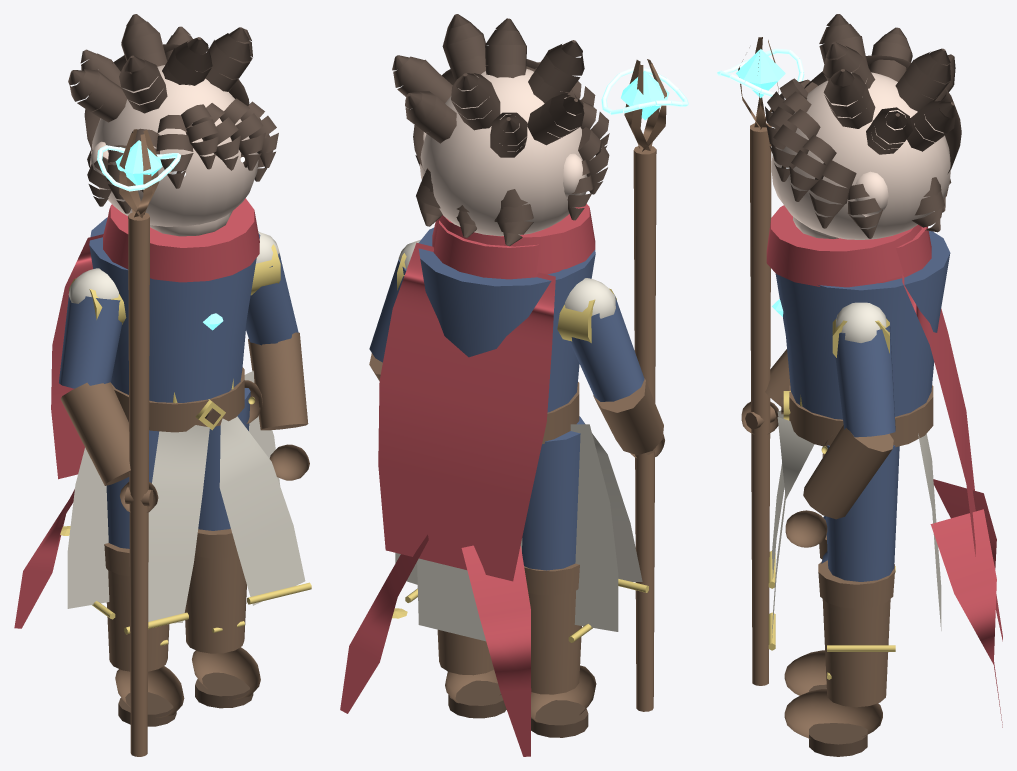
The model's file is arcane_apprentice.glb.
The picture shows the model from 3 angles, left to right: view 1: azimuth 30°, elevation 25°; view 2: azimuth 150°, elevation 25°; view 3: azimuth 270°, elevation 25°; orthographic projection. The views are drawn at different scales.
Parts seen in each view (by area): view 1: Part_10, Part_8, Part_7, Part_4, Part_5, Part_12, Part_0, Part_6, Part_11, Part_9, Part_13; view 2: Part_5, Part_7, Part_4, Part_8, Part_10, Part_0, Part_12, Part_11, Part_6, Part_9, Part_13; view 3: Part_7, Part_10, Part_4, Part_5, Part_0, Part_12, Part_8, Part_11, Part_6, Part_9, Part_13.
Boxes of the visible parts, <box> form: Part_10: <box>60,332,309,717</box>; Part_8: <box>67,231,305,623</box>; Part_7: <box>59,217,298,548</box>; Part_4: <box>68,14,278,213</box>; Part_5: <box>14,198,259,628</box>; Part_12: <box>119,129,158,756</box>; Part_0: <box>90,65,258,236</box>; Part_6: <box>60,244,311,645</box>; Part_11: <box>118,408,253,726</box>; Part_9: <box>115,140,223,330</box>; Part_13: <box>97,145,180,191</box>; Part_5: <box>340,203,595,756</box>; Part_7: <box>369,227,644,570</box>; Part_4: <box>392,14,609,246</box>; Part_8: <box>395,239,642,641</box>; Part_10: <box>369,353,664,722</box>; Part_0: <box>419,69,593,236</box>; Part_12: <box>624,59,666,711</box>; Part_11: <box>448,680,588,737</box>; Part_6: <box>392,253,648,642</box>; Part_9: <box>621,71,669,120</box>; Part_13: <box>601,67,688,115</box>; Part_7: <box>775,231,950,581</box>; Part_10: <box>741,349,933,738</box>; Part_4: <box>765,14,961,238</box>; Part_5: <box>766,205,1002,727</box>; Part_0: <box>771,72,950,239</box>; Part_12: <box>738,37,778,685</box>; Part_8: <box>772,302,941,637</box>; Part_11: <box>781,397,867,756</box>; Part_6: <box>768,318,895,679</box>; Part_9: <box>736,49,785,316</box>; Part_13: <box>717,48,804,96</box>.
Bounding box in the file's own units: 0.6488 × 1.66 × 0.6255.
